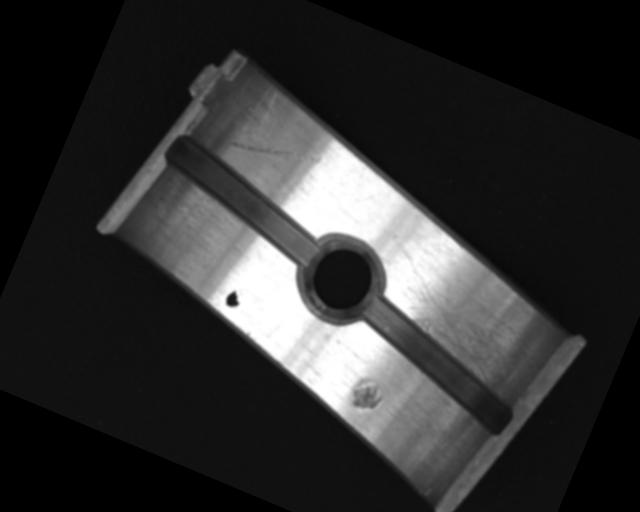blot: (222, 285, 245, 310)
bruise: (344, 371, 389, 416)
gap: (339, 292, 535, 436), (146, 130, 339, 271)
hole: (290, 227, 393, 331)
nick: (225, 120, 322, 181)
scratch: (365, 248, 559, 403)
